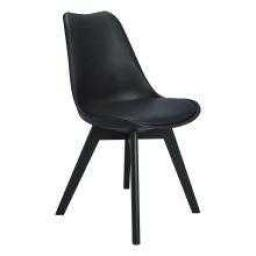Chair: (57, 12, 201, 244)
